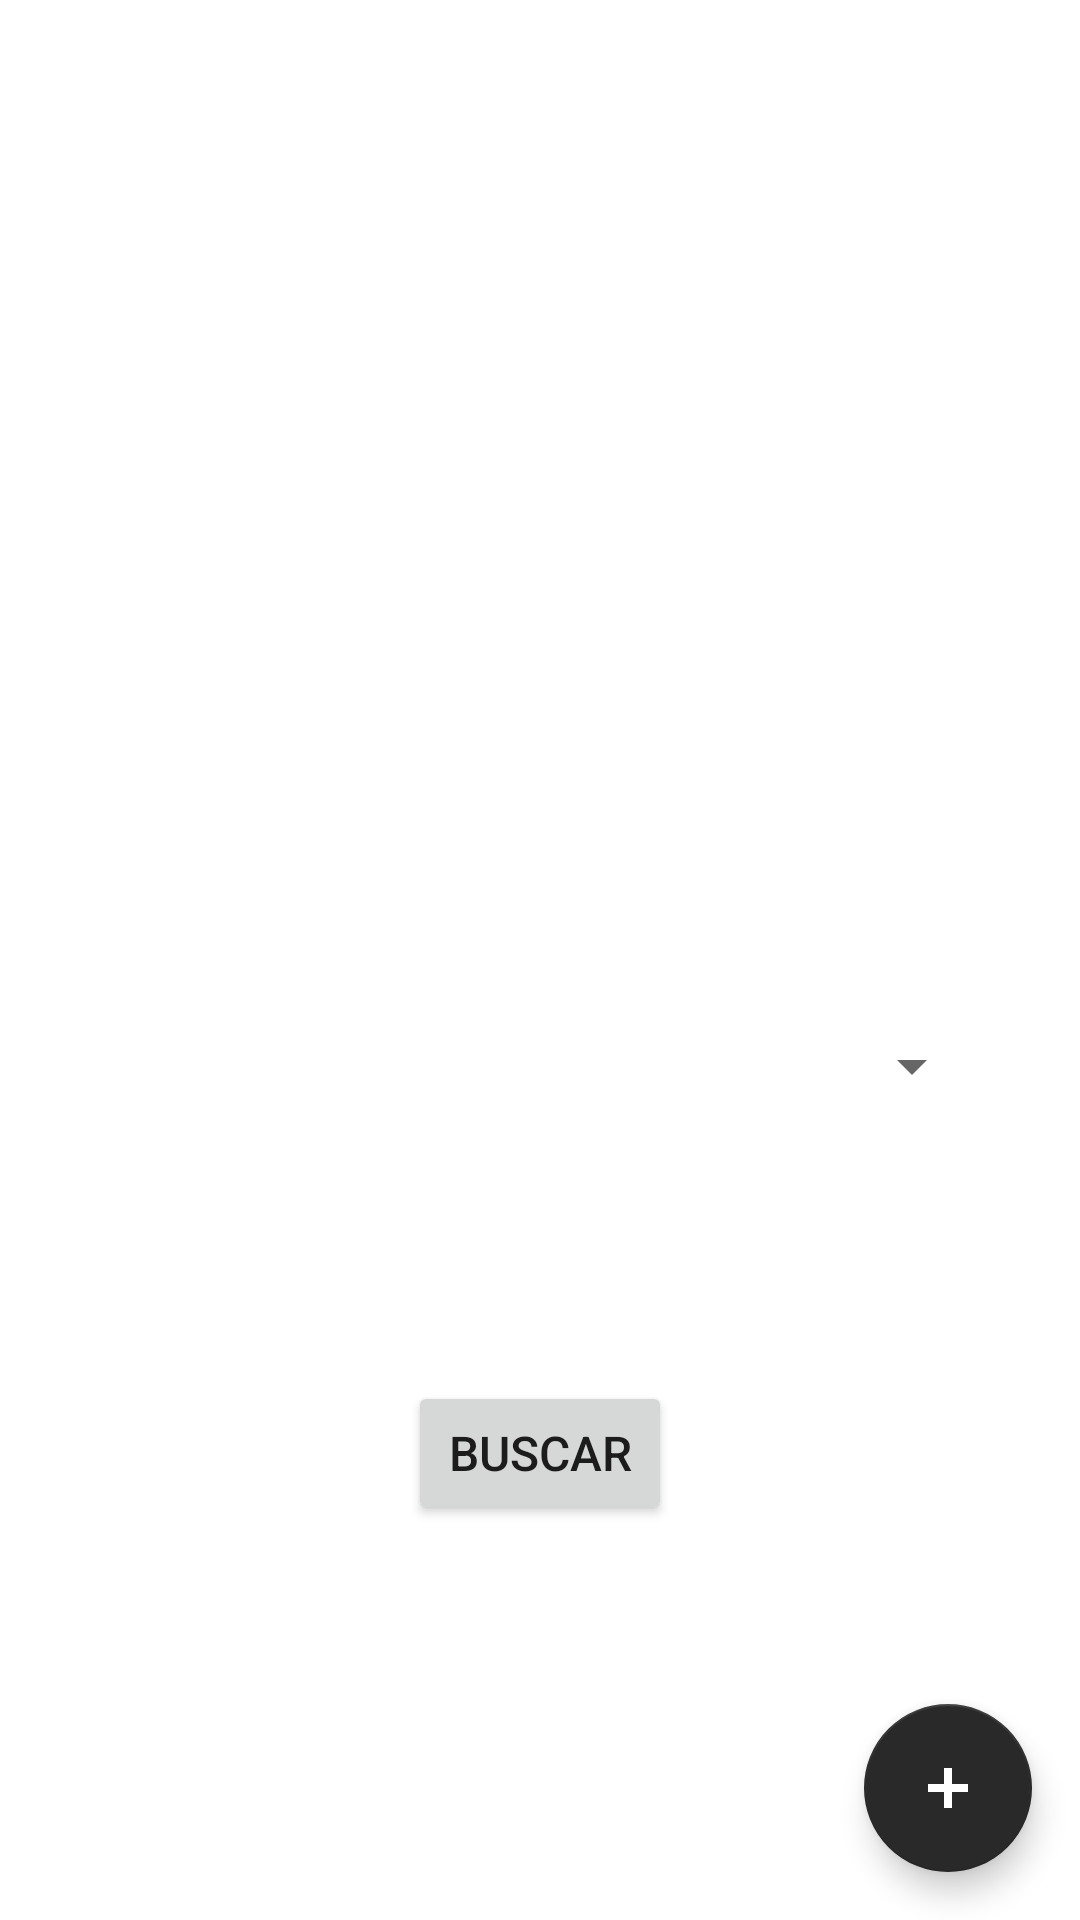

Named icons in this screenshot (1080*1920) and their bounding boxes, (x1, y1, x2, y2):
anyadir: (864, 1704, 1032, 1872)
